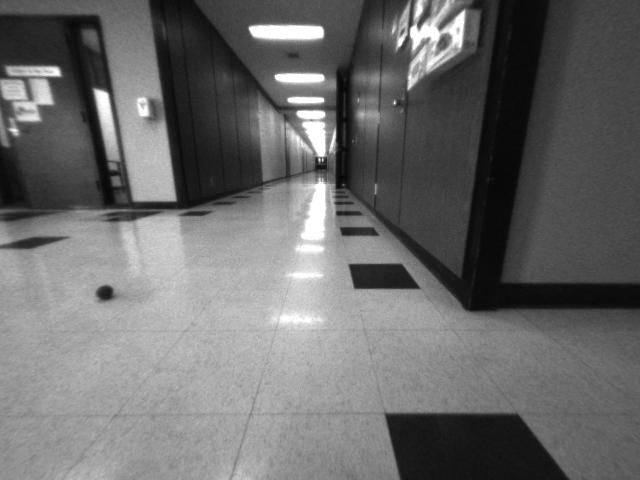dogtoy: (87, 275, 125, 311)
